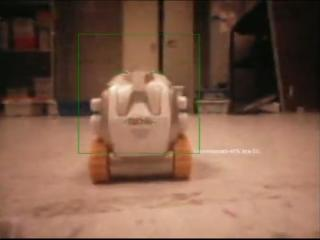cozmo: (86, 68, 192, 184)
